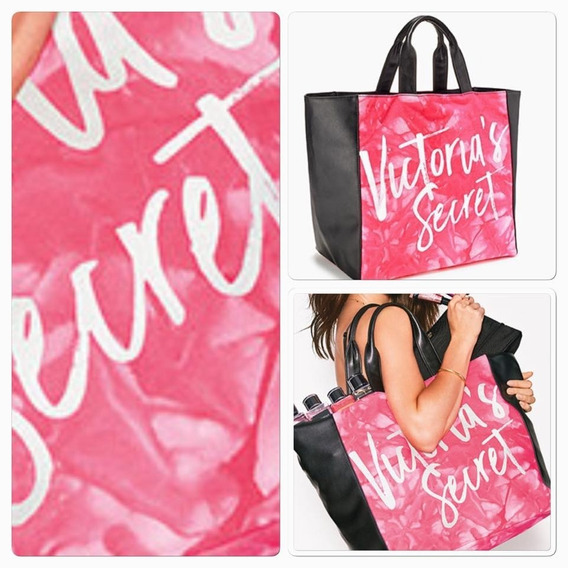cartera: (294, 304, 552, 547), (302, 13, 521, 278)
